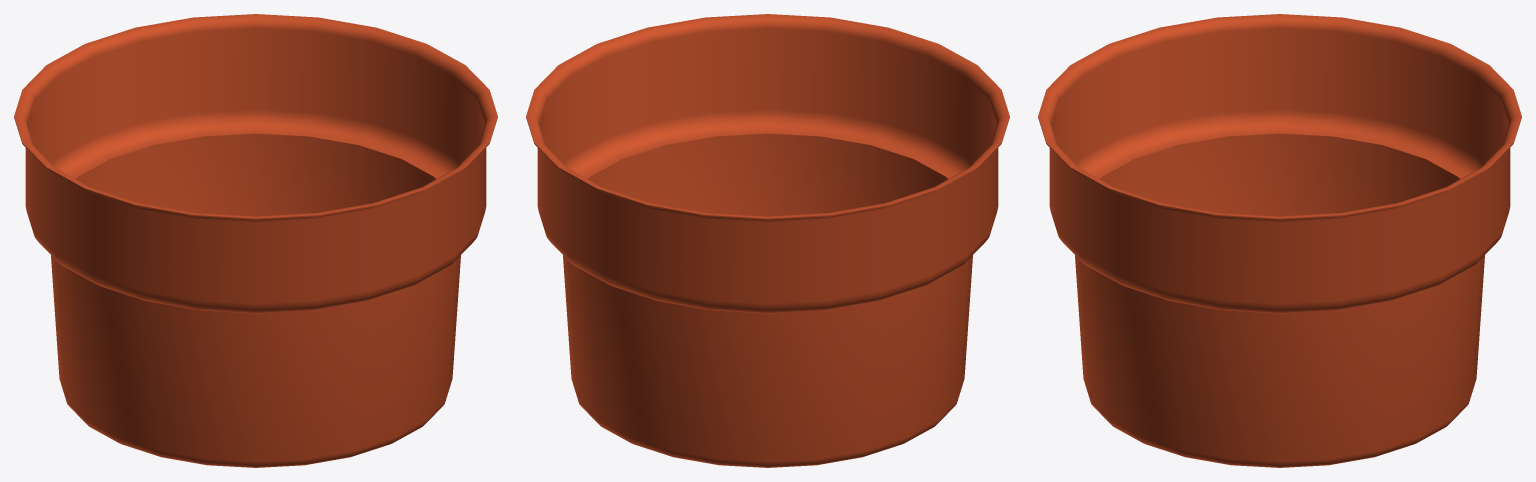
Rendered from pot_01_origin.dae.
3 views of the same model, side by side, from view 1: azimuth 30°, elevation 25°; view 2: azimuth 150°, elevation 25°; view 3: azimuth 270°, elevation 25° (orthographic).
Parts seen in each view (by area): view 1: group_0 (×5); view 2: group_0 (×5); view 3: group_0 (×5).
Boxes of the visible parts, bbox=[...] form: group_0 (×5): bbox=[14, 14, 497, 467]; group_0 (×5): bbox=[526, 14, 1009, 467]; group_0 (×5): bbox=[1038, 14, 1521, 467].
Size of the model in its own units: 7.88 by 7.88 by 5.04.
